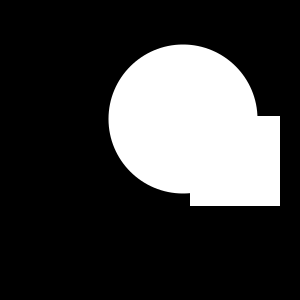circle: (190, 116, 280, 206)
rectangle: (109, 44, 258, 194)
